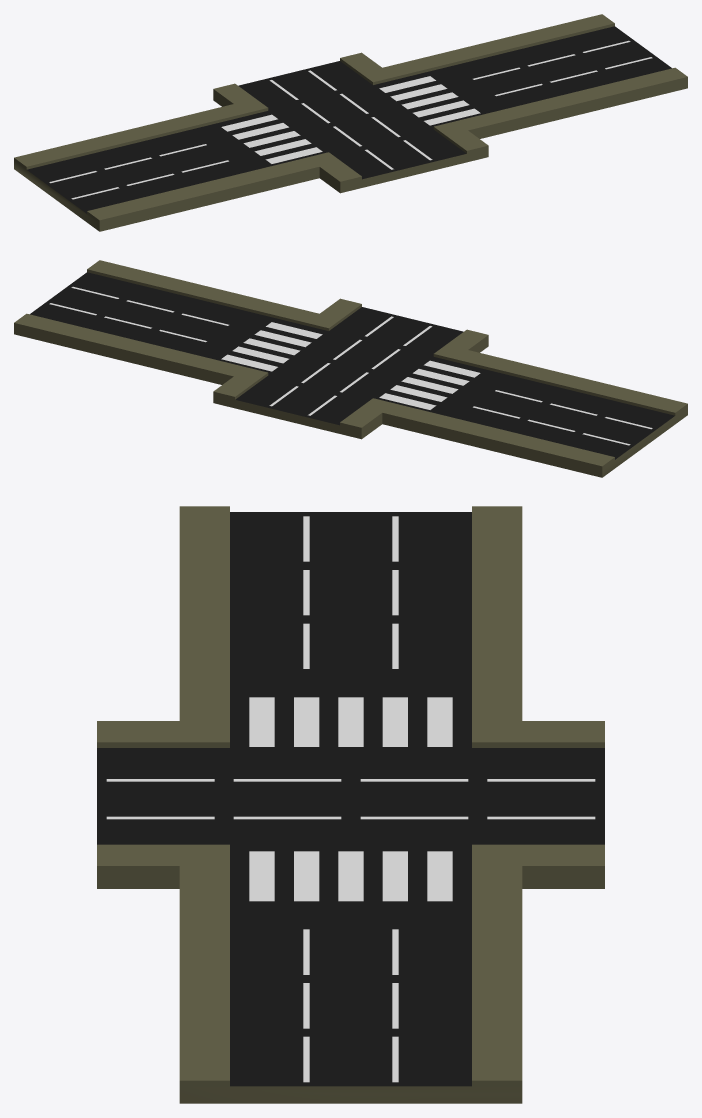
The model's file is RoadT.fbx.
The picture shows the model from 3 angles, top to bottom: view 1: azimuth 30°, elevation 25°; view 2: azimuth 150°, elevation 25°; view 3: azimuth 270°, elevation 25°; orthographic projection. The views are drawn at different scales.
Parts seen in each view (by area): view 1: RoadT; view 2: RoadT; view 3: RoadT.
Boxes of the visible parts, x1,y1,x2,y2 form: RoadT: (14,14,687,231); RoadT: (14,260,687,477); RoadT: (97,506,604,1103).
Bounding box in the file's own units: 1177 × 22 × 440.
